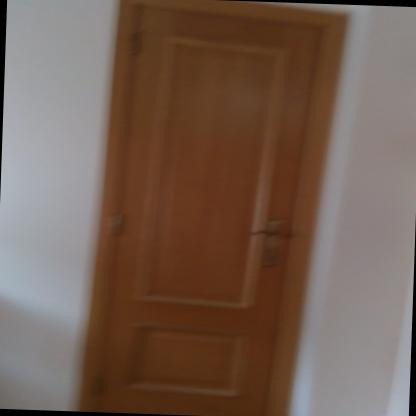closed: (74, 0, 368, 414)
